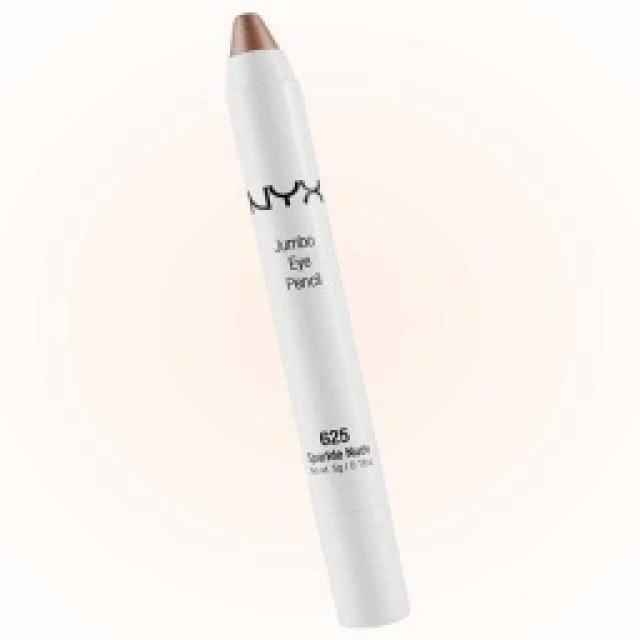pencil: (220, 8, 412, 630)
